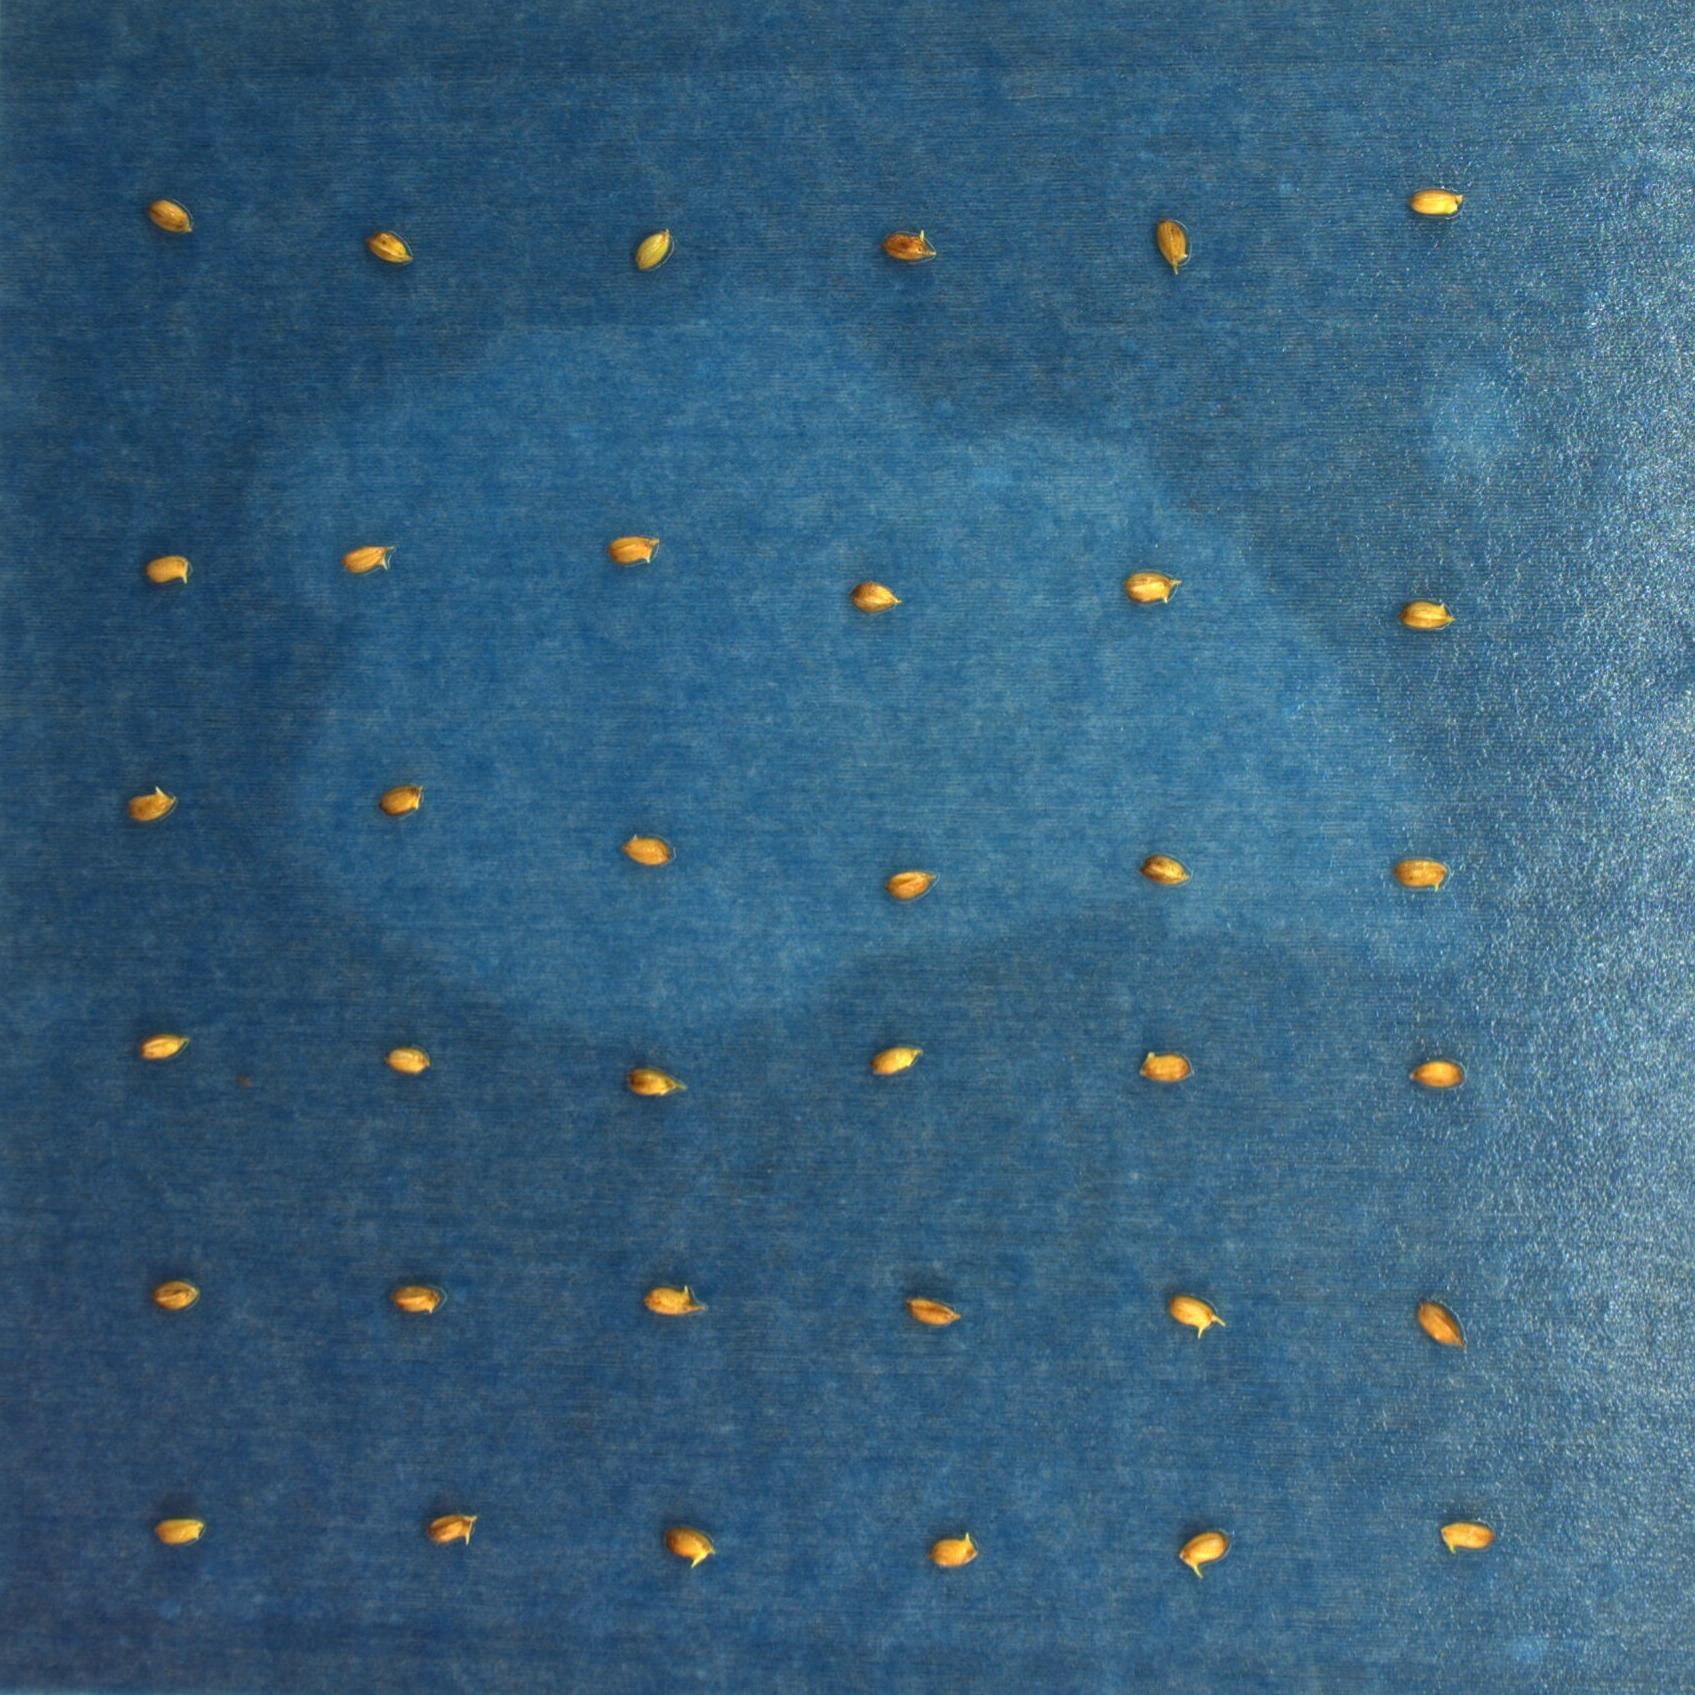not sprout: (1411, 1291, 1464, 1350), (660, 1518, 712, 1571), (1433, 1513, 1492, 1558), (1180, 1530, 1229, 1583), (1170, 1291, 1225, 1340), (133, 192, 194, 233), (1408, 1057, 1475, 1093), (638, 1282, 703, 1318), (883, 224, 941, 264), (622, 1062, 681, 1101), (1135, 1049, 1191, 1090), (930, 1526, 978, 1572), (869, 1038, 922, 1080), (1124, 570, 1183, 607), (379, 1040, 438, 1077), (390, 1279, 444, 1319), (630, 225, 674, 275), (129, 784, 182, 824), (1400, 594, 1454, 633), (338, 543, 397, 579), (362, 227, 411, 269), (882, 861, 938, 899), (1403, 186, 1470, 217), (847, 574, 900, 613), (619, 829, 672, 868), (1153, 217, 1187, 276), (147, 1512, 203, 1548), (133, 1024, 186, 1062), (380, 776, 428, 816), (607, 529, 661, 565), (425, 1507, 477, 1544), (1141, 854, 1194, 889), (903, 1291, 958, 1326), (151, 1273, 199, 1309), (1402, 855, 1448, 886), (141, 554, 189, 584)
